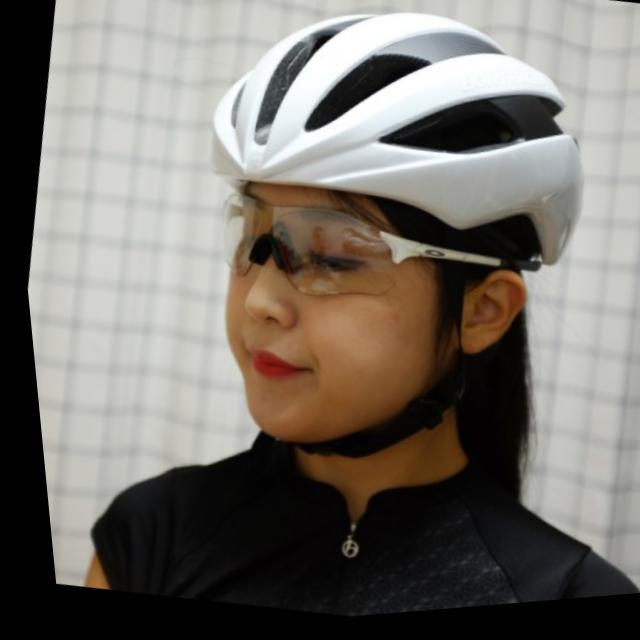Helmet: (208, 10, 585, 448)
